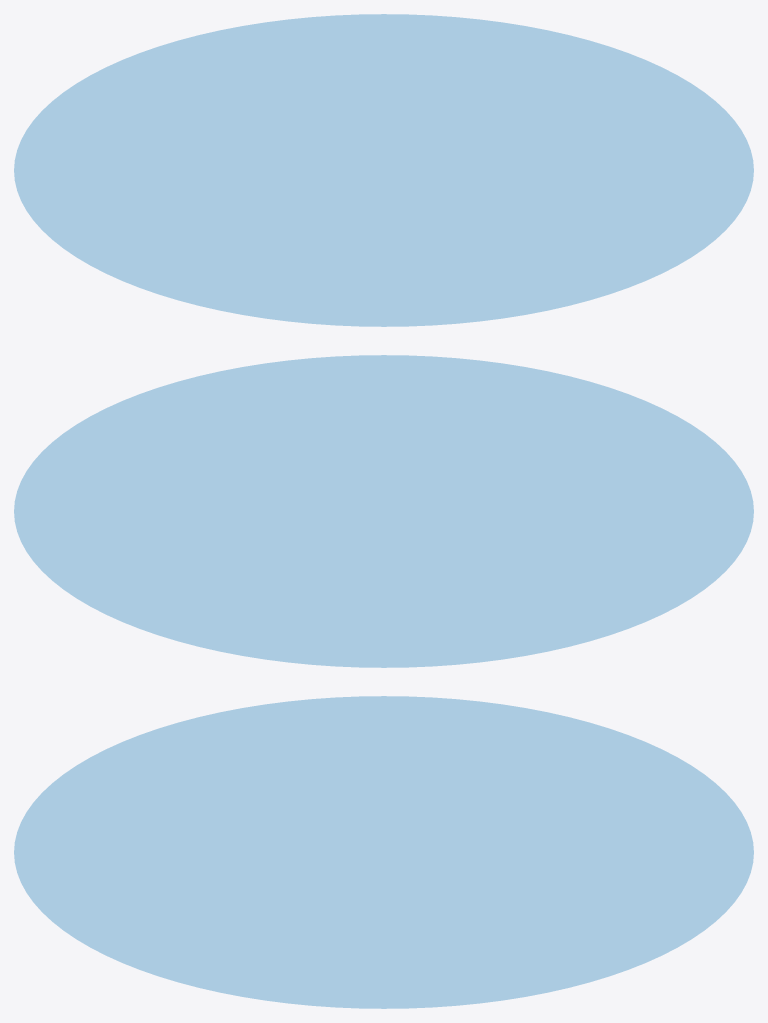
The model's file is Hall_CentralLight.FBX.
3 renders of one model, top to bottom at view 1: azimuth 30°, elevation 25°; view 2: azimuth 150°, elevation 25°; view 3: azimuth 270°, elevation 25°, orthographic.
Visible parts, largest first — view 1: CentralLight; view 2: CentralLight; view 3: CentralLight.
Part boxes in pixels (left/top/right/bottom): CentralLight: left=14, top=14, right=753, bottom=326; CentralLight: left=14, top=355, right=753, bottom=667; CentralLight: left=14, top=696, right=753, bottom=1008.
Size of the model in its own units: 415 by 2.84e-14 by 415.
